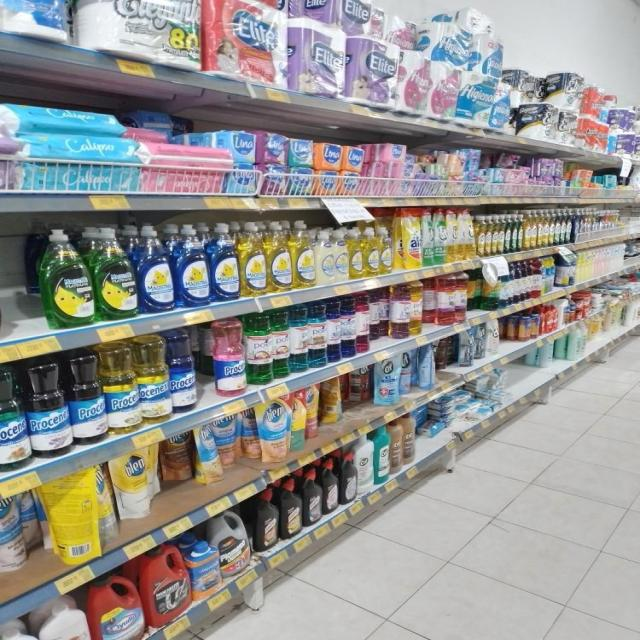cif_conc_bot_amarilla: (476, 214, 486, 258), (486, 214, 496, 256), (492, 214, 502, 255), (524, 211, 534, 250), (482, 214, 490, 257), (538, 210, 545, 248)
cif_conc_botella_verde: (505, 213, 512, 254), (514, 212, 521, 252)
magistral_con_amarillo: (239, 221, 266, 296), (266, 220, 291, 292), (292, 222, 314, 288), (363, 227, 379, 277), (349, 227, 363, 279), (379, 225, 392, 275)
magistral_con_azul: (137, 224, 174, 314), (175, 223, 209, 308), (210, 222, 238, 302)
magistral_con_crema: (316, 228, 334, 285), (334, 227, 349, 282)
